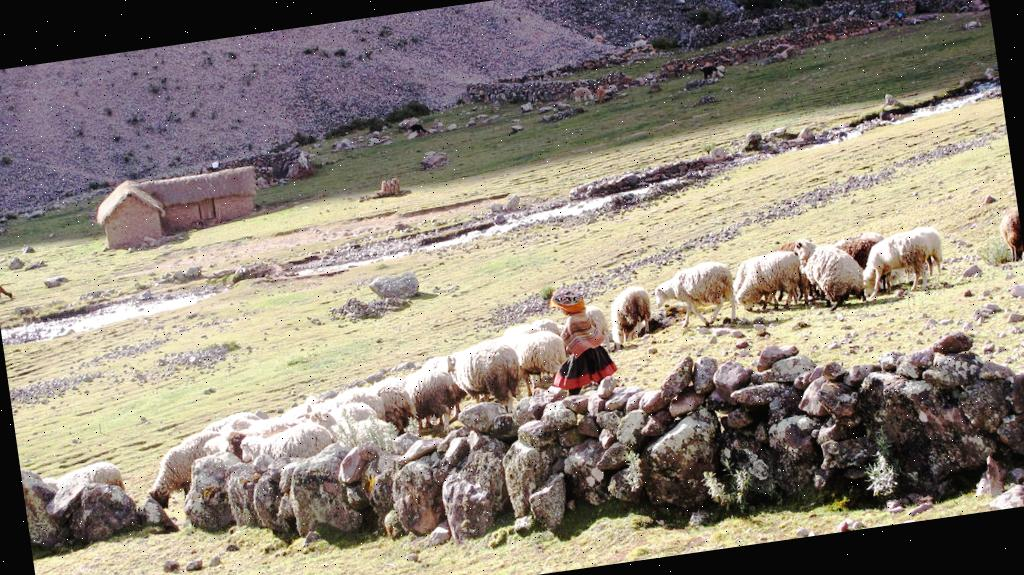Sheep: (854, 224, 948, 298), (792, 228, 870, 314), (648, 260, 738, 333), (448, 336, 524, 417), (730, 246, 810, 318), (400, 361, 468, 435), (238, 416, 336, 466), (508, 326, 572, 401), (830, 230, 894, 296), (140, 434, 196, 506), (728, 249, 786, 315), (606, 282, 656, 342), (324, 379, 396, 420), (46, 458, 121, 490), (528, 317, 562, 340), (842, 230, 884, 247)
